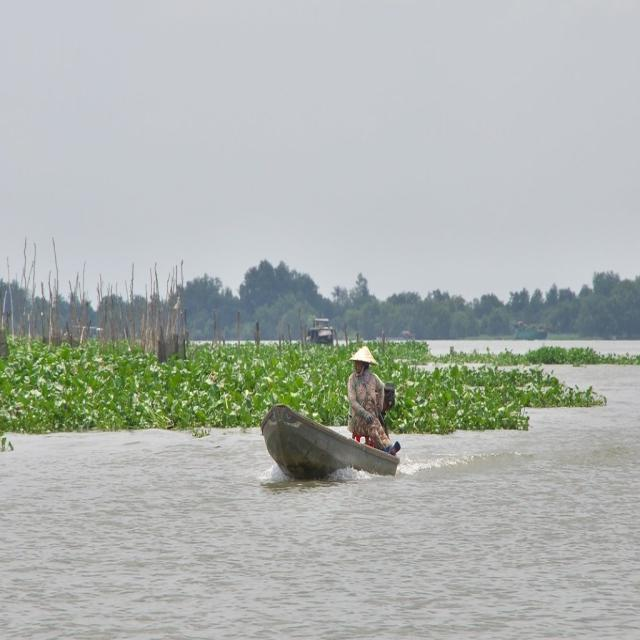boat: (11, 342, 490, 434), (234, 401, 407, 492), (303, 317, 331, 346)
